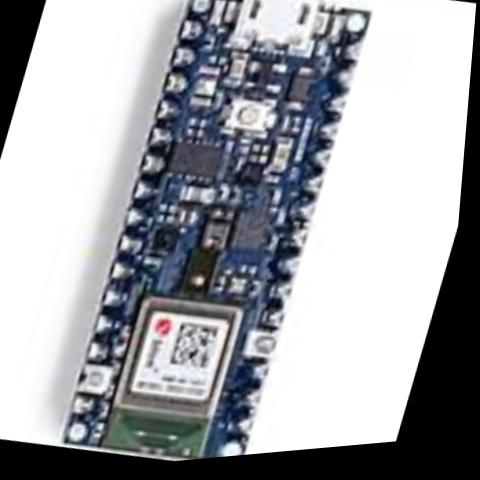Arduino-Nano: (43, 0, 390, 475)
